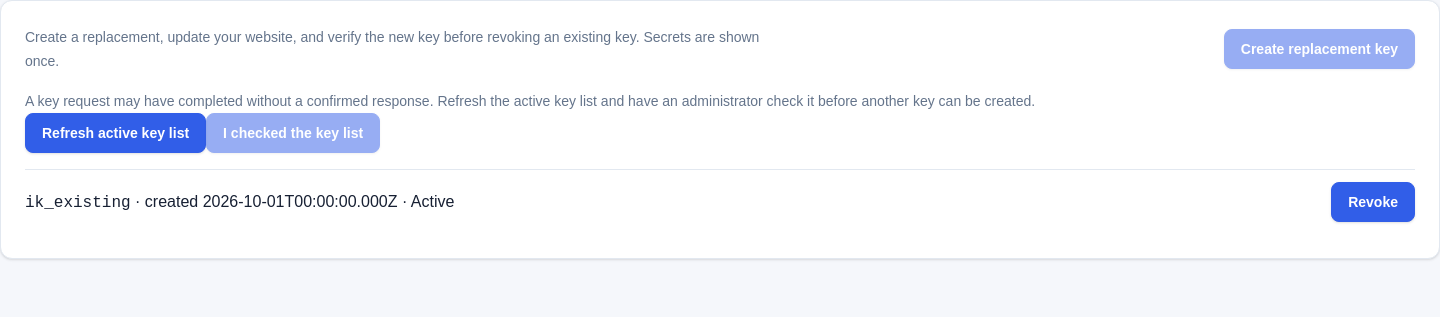
IngestKeysManager create recovery › does not clear a review marker while another tab holds the creation lock
Click the button "Refresh active key list" at (116, 133), box [25,113,206,153]
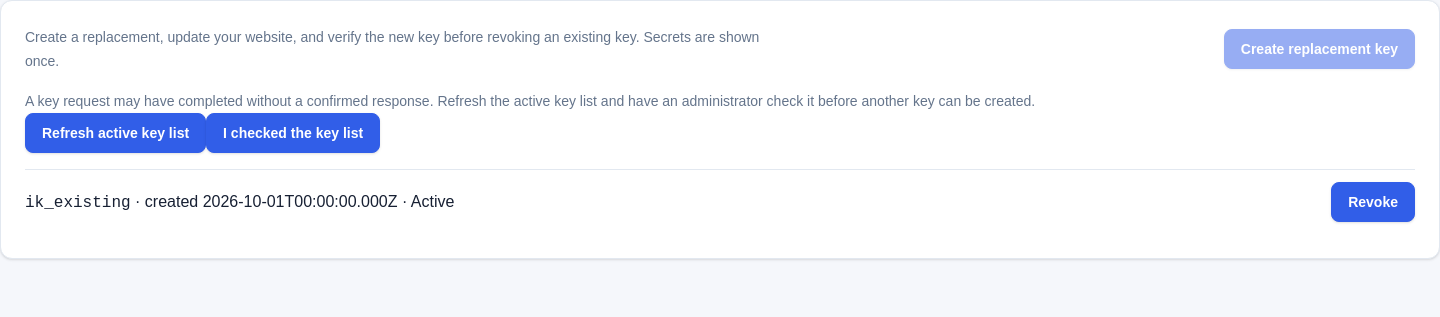
Click the button "I checked the key list" at (293, 133), box [206,113,380,153]
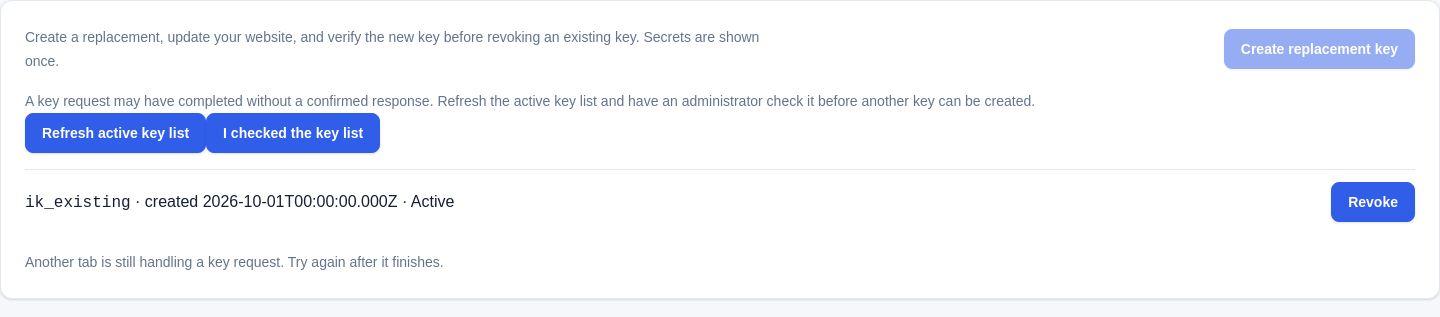
Expected: the button "Create replacement key" is disabled, [1224,29,1415,69]
Now the button "I checked the key list" is enabled, box [206,113,380,153]
Now the text "Another tab is still handling a key request" is shown, box [25,254,444,270]
